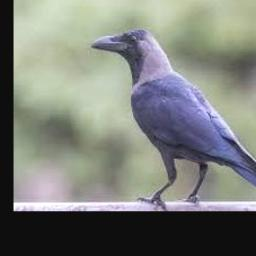Crow: (92, 28, 256, 209)
